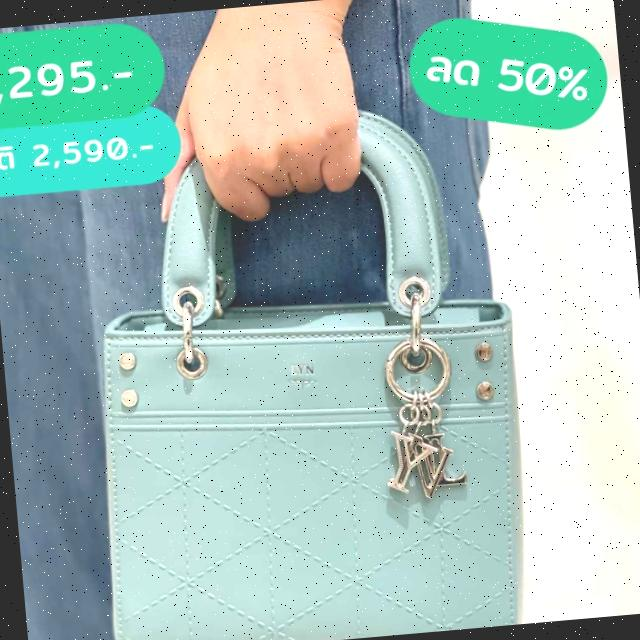handbag: (54, 181, 580, 640)
